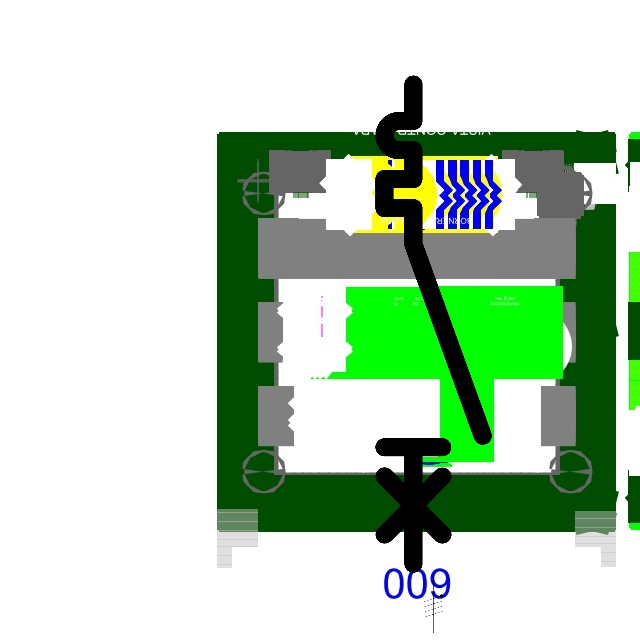interruptor_termomagnetico: (372, 72, 495, 576)
